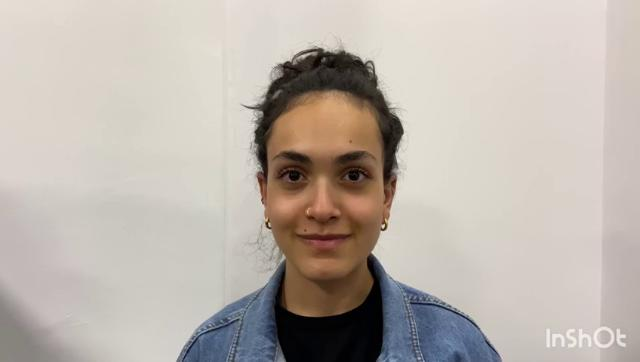senang: (263, 90, 394, 282)
